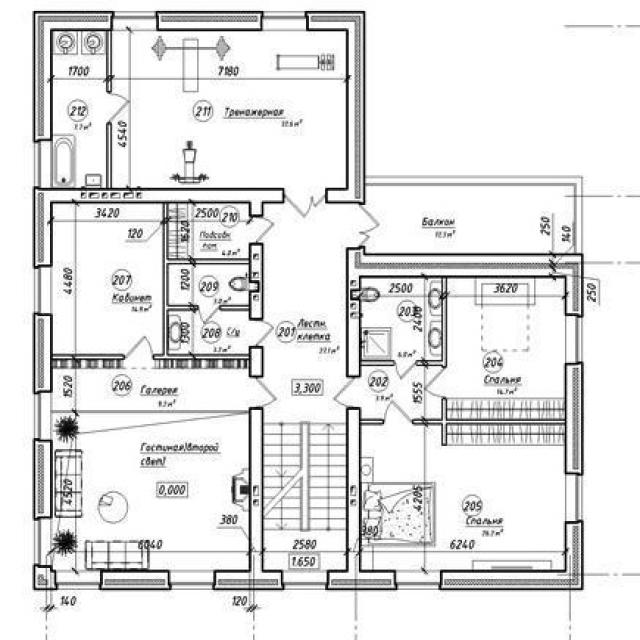Bathrooms: (52, 31, 106, 187), (351, 278, 442, 359), (168, 264, 257, 305), (170, 312, 249, 353)
Corridors: (264, 205, 346, 405), (366, 186, 573, 253), (362, 367, 441, 419), (170, 205, 249, 257)
Doors: (346, 204, 383, 247), (286, 187, 326, 222), (329, 377, 361, 407), (248, 378, 281, 407), (383, 395, 413, 425), (420, 366, 447, 399), (105, 91, 132, 123), (124, 332, 154, 360), (249, 217, 277, 243), (249, 320, 276, 346), (199, 305, 220, 328), (395, 360, 416, 382)
LBwalls: (345, 245, 584, 378), (32, 186, 286, 270), (212, 406, 285, 591), (325, 407, 398, 591), (303, 11, 367, 205), (32, 11, 114, 142), (438, 519, 585, 591), (563, 363, 584, 475), (156, 10, 263, 31), (33, 313, 53, 393), (33, 440, 52, 520), (100, 570, 170, 590), (248, 243, 264, 322), (33, 565, 55, 590), (248, 346, 264, 379)
Offices: (53, 359, 249, 569), (112, 31, 346, 187), (361, 425, 565, 569), (52, 203, 162, 353), (448, 279, 564, 418)
Stairs: (264, 406, 347, 570)
Walls: (365, 174, 583, 254), (152, 204, 250, 360), (411, 398, 567, 446), (416, 278, 447, 370), (52, 353, 125, 360), (106, 121, 112, 188), (106, 31, 111, 93), (361, 361, 396, 367), (219, 305, 249, 311), (361, 418, 384, 425)
Windows: (282, 569, 328, 590), (169, 569, 215, 590), (56, 570, 102, 590), (262, 11, 308, 31), (34, 140, 53, 188), (395, 570, 440, 590), (112, 11, 158, 30), (34, 266, 52, 314), (565, 473, 582, 522), (34, 393, 52, 439), (565, 315, 582, 363), (35, 519, 52, 565)
